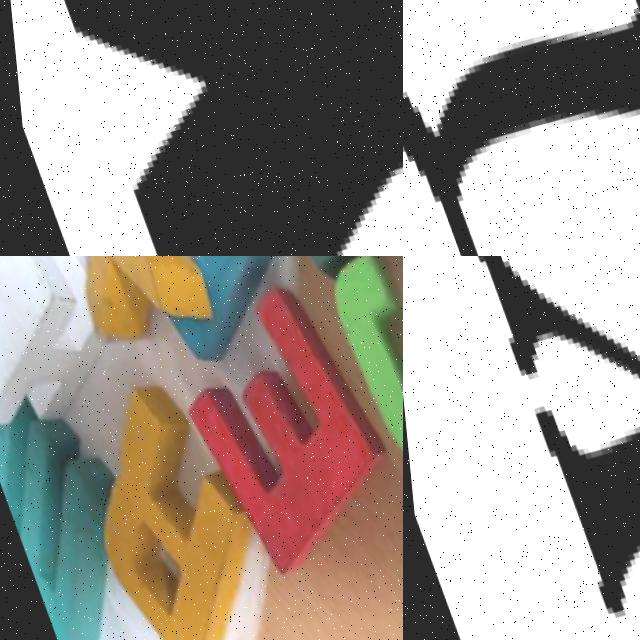C: (305, 256, 403, 455)
E: (152, 296, 403, 582)
R: (37, 345, 279, 640)
X: (0, 0, 403, 256), (441, 256, 640, 640), (27, 256, 211, 340)
